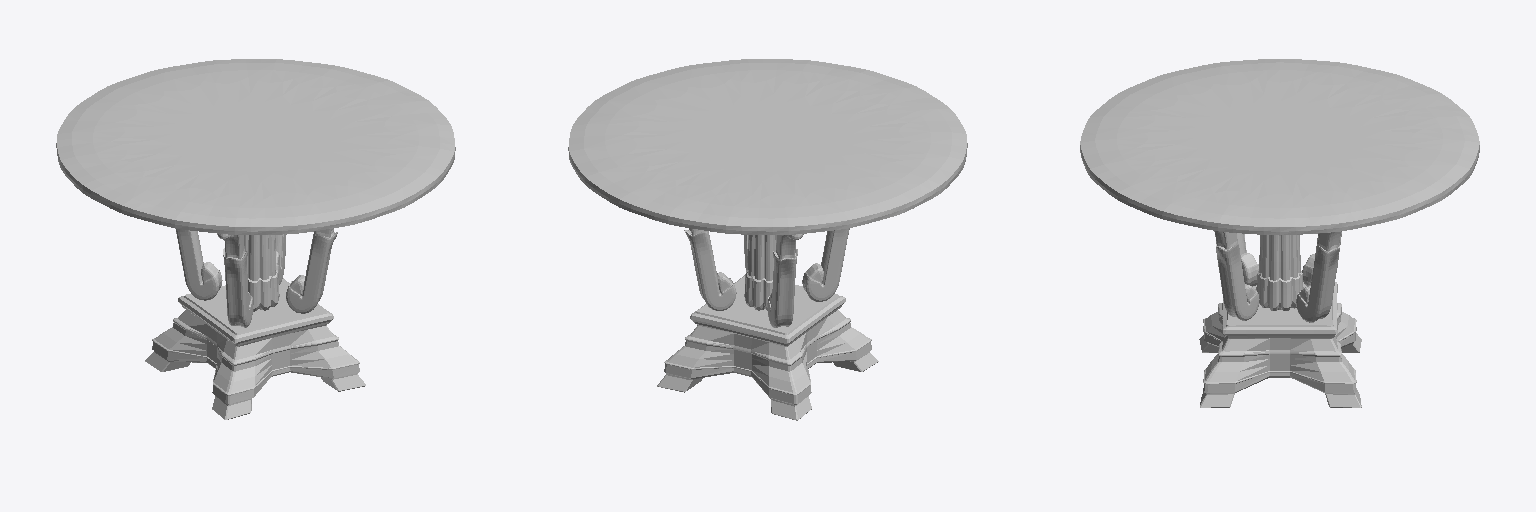
The model's file is GlassTable.obj.
3 views of the same model, side by side, from view 1: azimuth 30°, elevation 25°; view 2: azimuth 150°, elevation 25°; view 3: azimuth 270°, elevation 25° (orthographic).
Visible parts, largest first — view 1: pCylinder2, Base:pCube1, pCube2, pCube3, pCylinder1 polySurface1 polySurface4, pCylinder1 polySurface3 polySurface1; view 2: pCylinder2, Base:pCube1, pCube3, pCube2, pCylinder1 polySurface1 polySurface4, pCylinder1 polySurface3 polySurface1; view 3: pCylinder2, Base:pCube1, pCube3, pCube2, pCylinder1 polySurface1 polySurface4, pCylinder1 polySurface3 polySurface1.
Part boxes in pixels (left/top/right/bottom): pCylinder2: left=56, top=59, right=455, bottom=234; Base:pCube1: left=145, top=278, right=365, bottom=419; pCube2: left=175, top=228, right=337, bottom=313; pCube3: left=217, top=234, right=286, bottom=327; pCylinder1 polySurface1 polySurface4: left=244, top=235, right=275, bottom=280; pCylinder1 polySurface3 polySurface1: left=248, top=270, right=279, bottom=311; pCylinder2: left=568, top=59, right=967, bottom=234; Base:pCube1: left=657, top=275, right=878, bottom=420; pCube3: left=684, top=228, right=849, bottom=310; pCube2: left=744, top=234, right=803, bottom=327; pCylinder1 polySurface1 polySurface4: left=748, top=235, right=776, bottom=280; pCylinder1 polySurface3 polySurface1: left=744, top=270, right=772, bottom=310; pCylinder2: left=1080, top=59, right=1479, bottom=235; Base:pCube1: left=1199, top=282, right=1361, bottom=407; pCube3: left=1237, top=231, right=1341, bottom=322; pCube2: left=1214, top=231, right=1341, bottom=320; pCylinder1 polySurface1 polySurface4: left=1259, top=235, right=1300, bottom=280; pCylinder1 polySurface3 polySurface1: left=1256, top=271, right=1303, bottom=310.
Bounding box in the file's own units: 3.61 × 2.35 × 3.61.